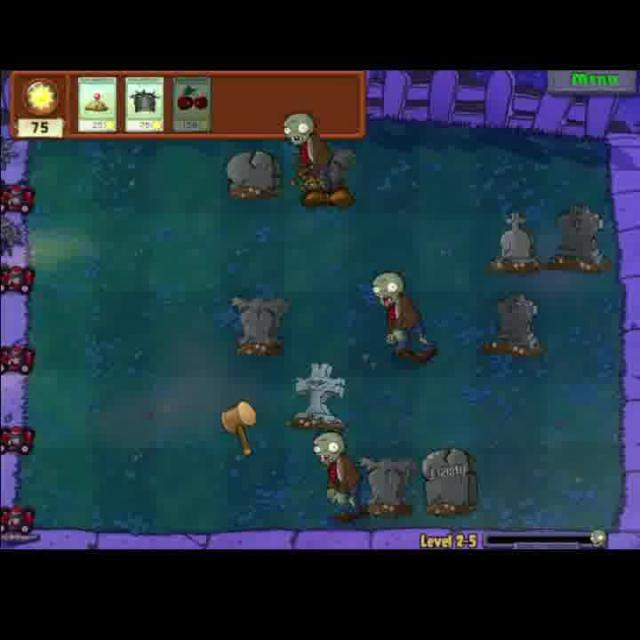coins: (367, 268, 436, 367), (278, 110, 344, 212), (308, 425, 374, 527)
